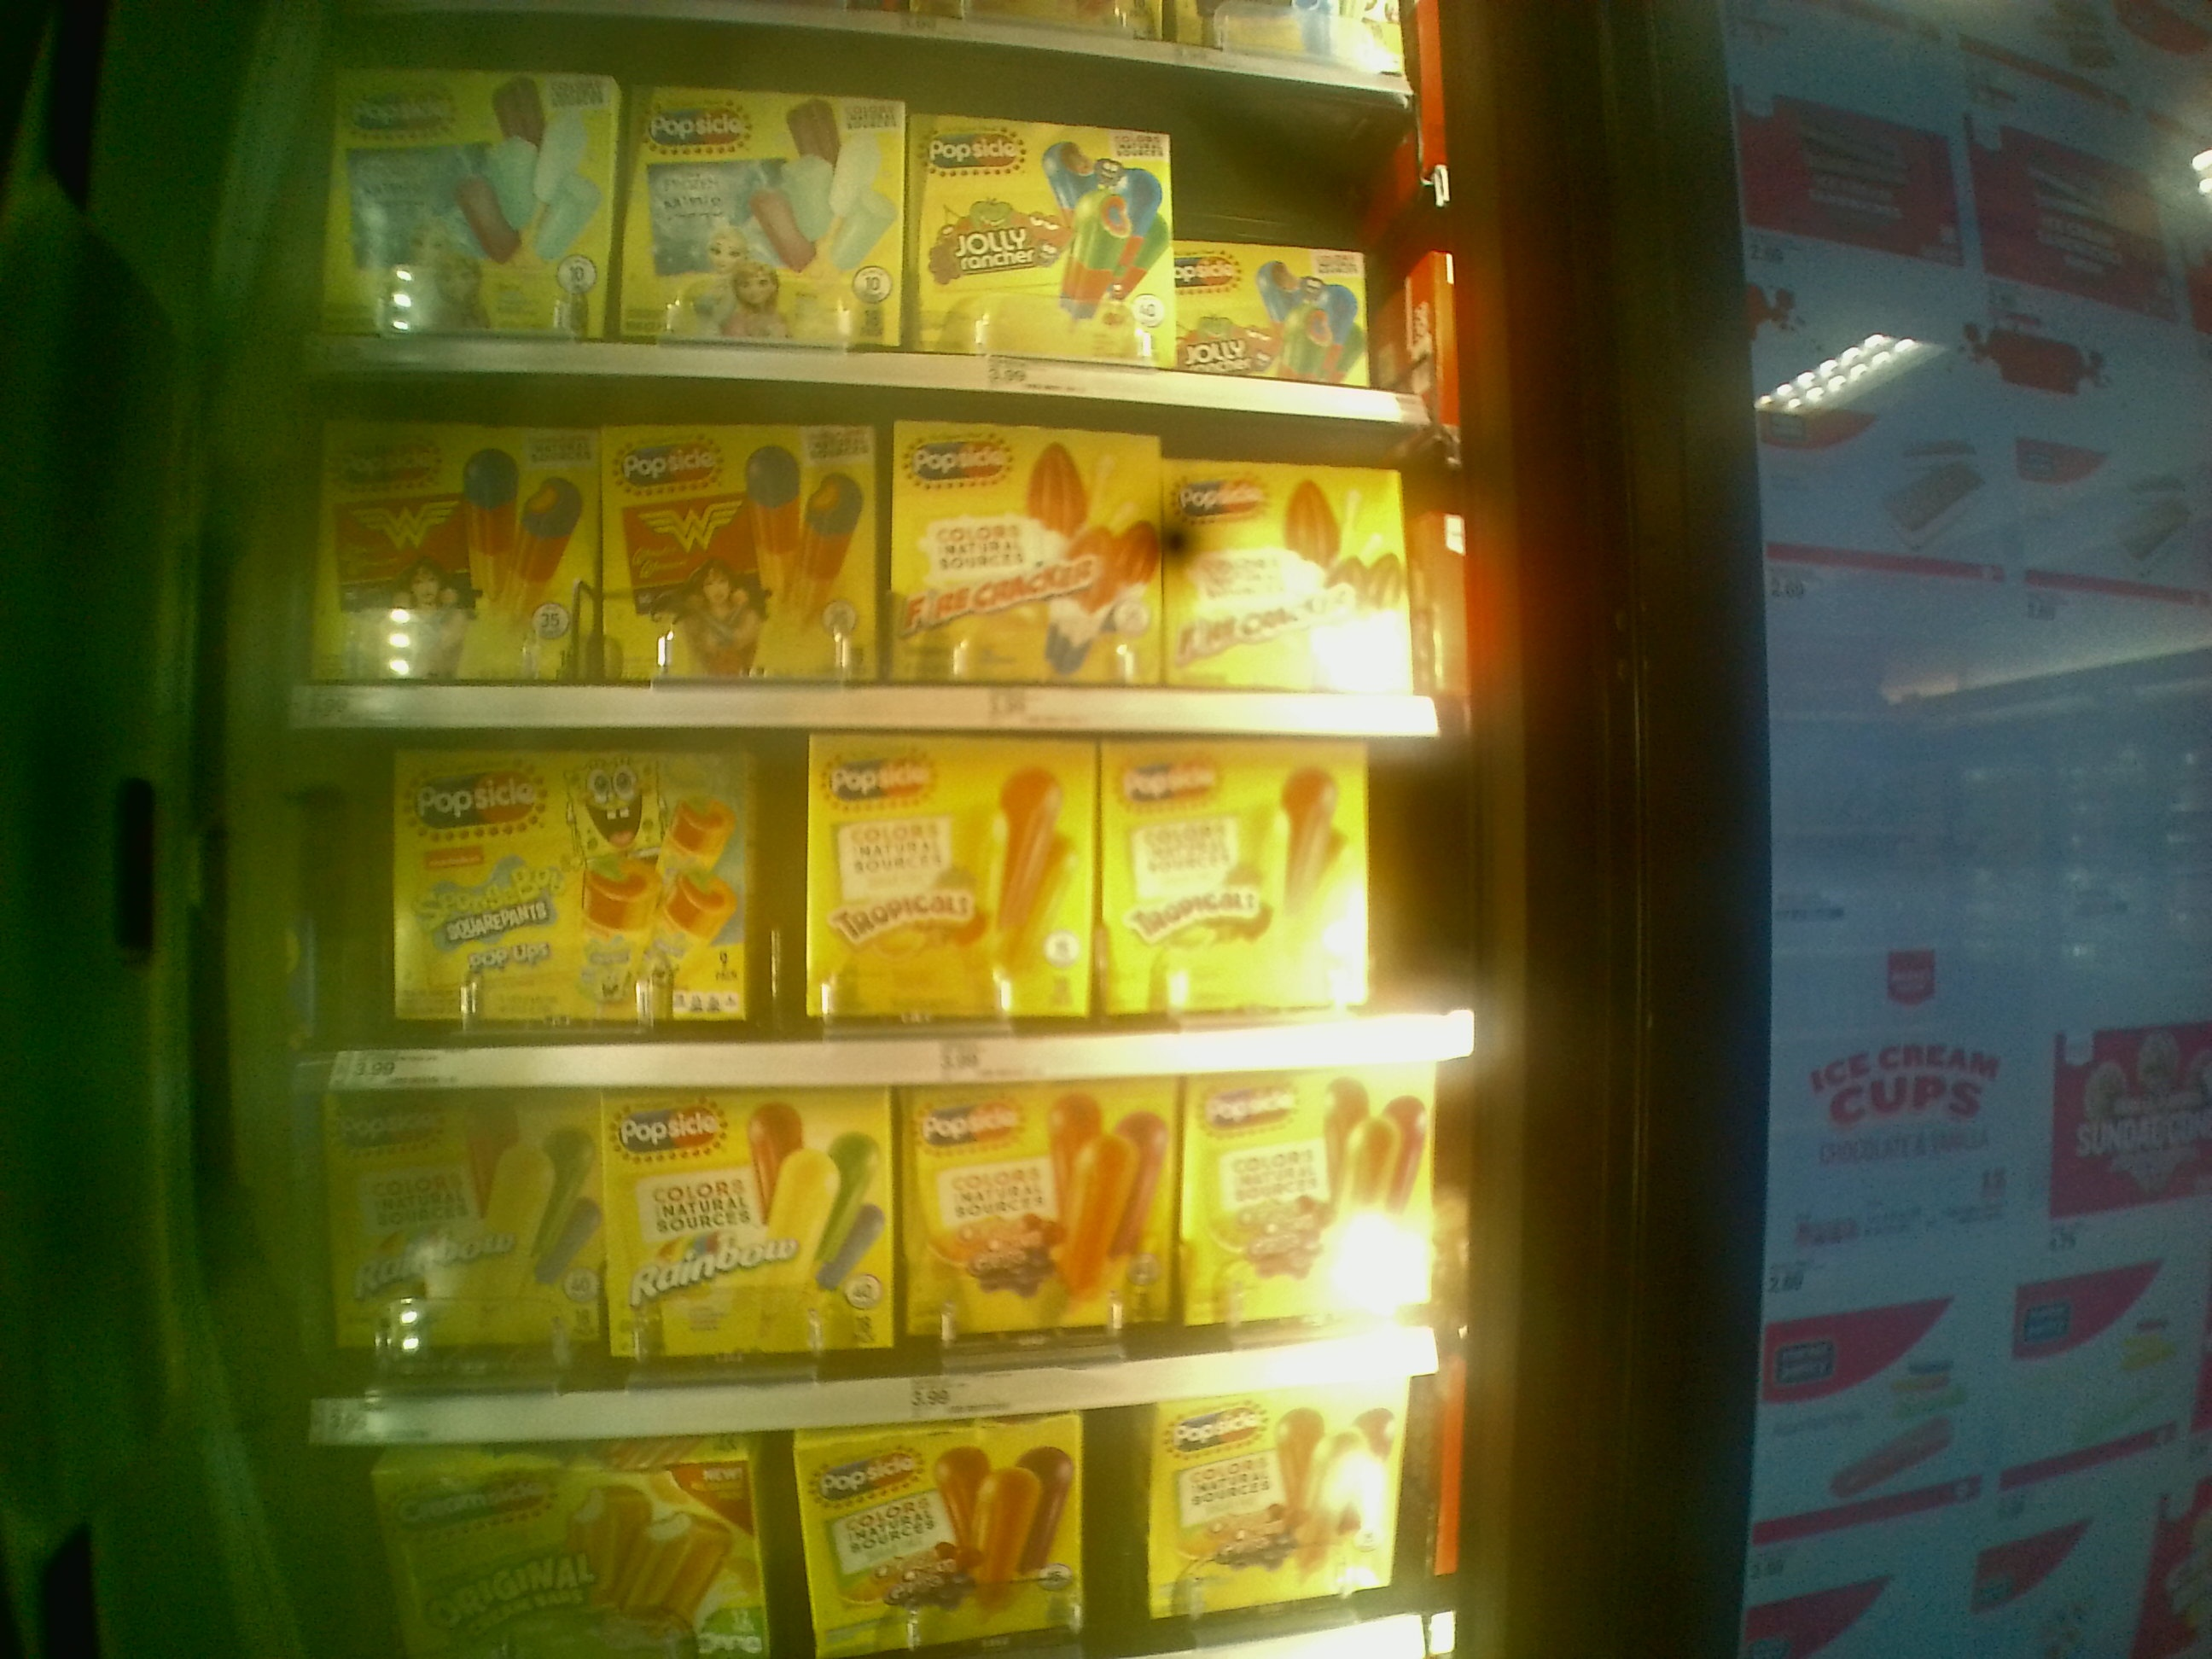shelf: (307, 711, 1493, 1070), (329, 1084, 1439, 1436)
